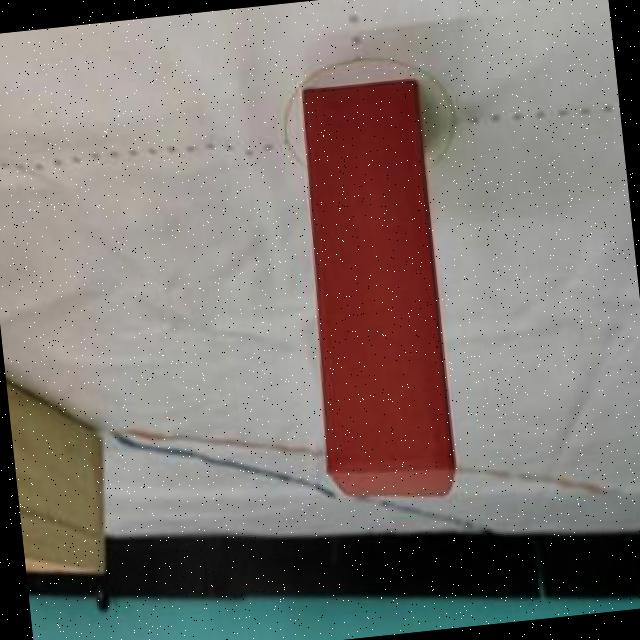redbox: (282, 74, 460, 508)
